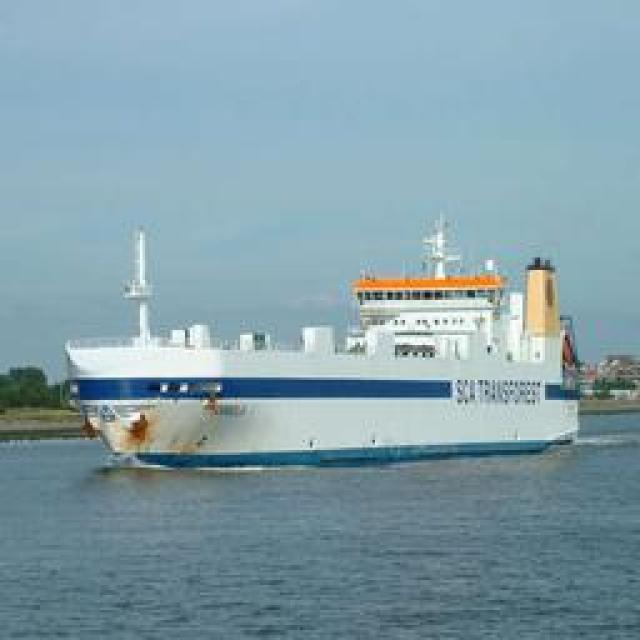CIV_Ship: (59, 216, 586, 469)
